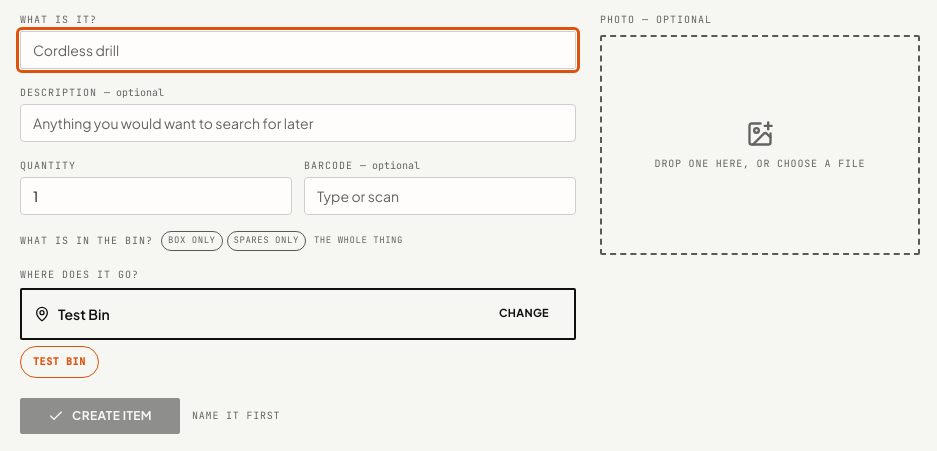
#264 follow-up: the guard is on the submit, so a mouse-clicked Create is rescued too
Type "012345678905" into the field with placeholder "Cordless drill".
click(298, 50); type("012345678905")  # box [20,31,576,69]
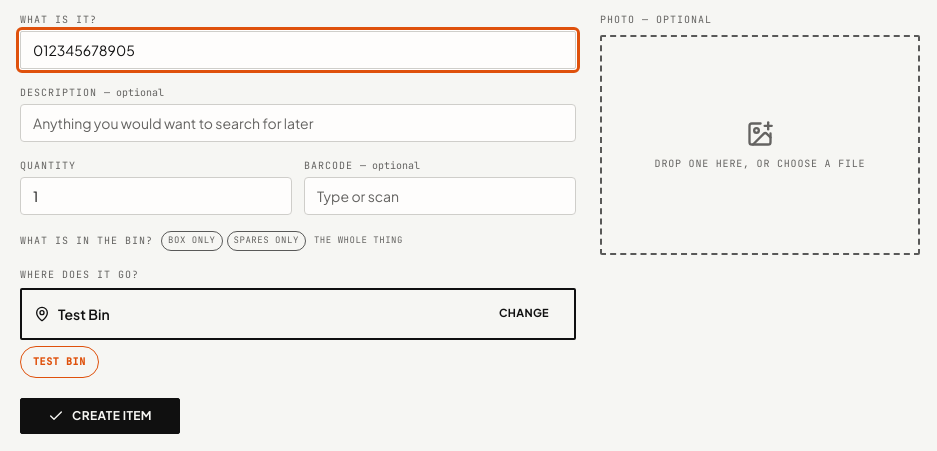
Click the button "Create item".
click(100, 416)  # box [20,398,180,434]
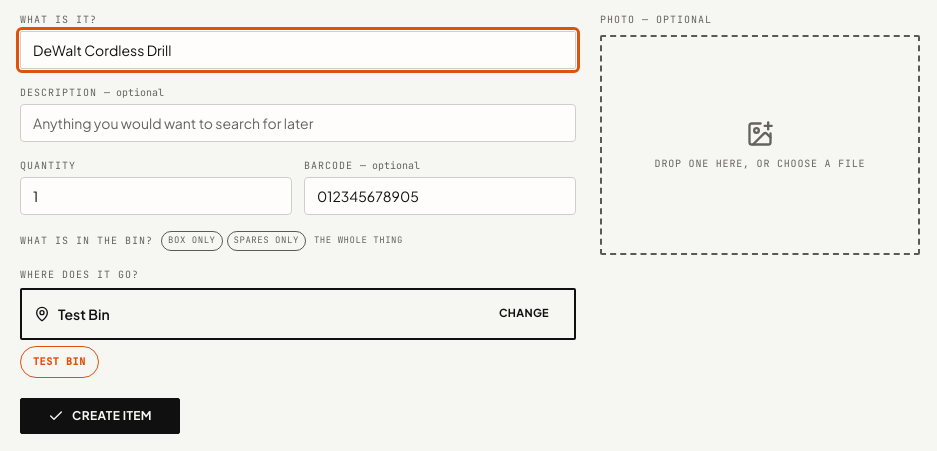
Result: the field showing "DeWalt Cordless Drill" is shown at [20,31,576,69]
